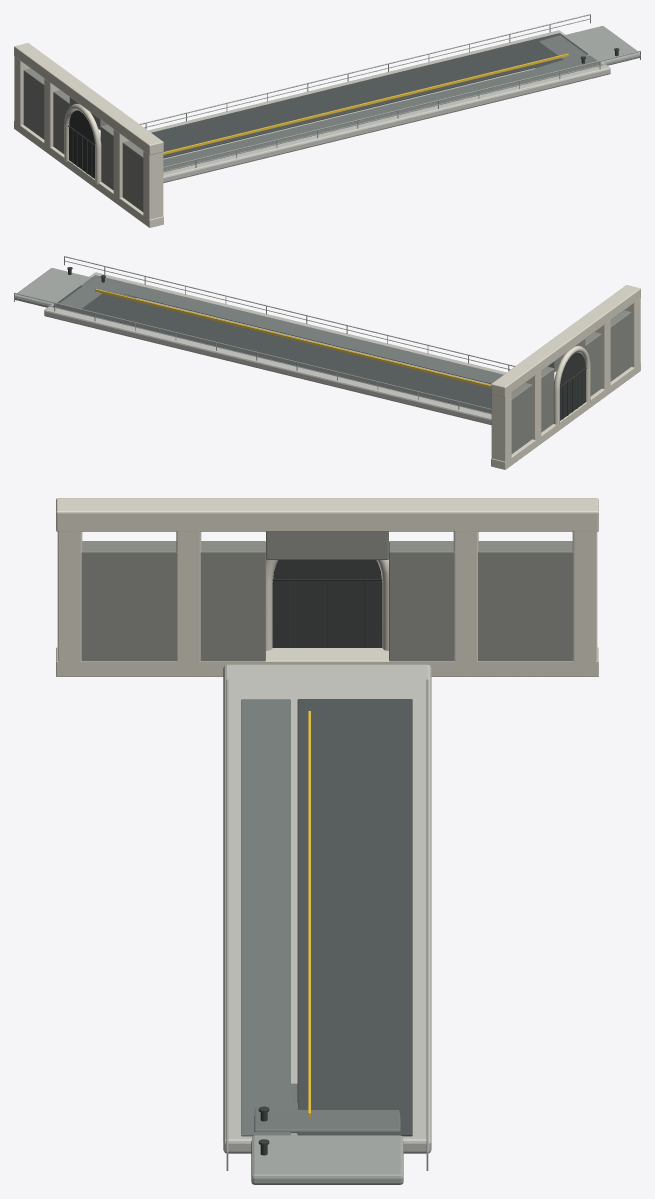
Rendered from ferry-qigan-pier-v13-lod1.glb.
The picture shows the model from 3 angles, top to bottom: view 1: azimuth 30°, elevation 25°; view 2: azimuth 150°, elevation 25°; view 3: azimuth 270°, elevation 25°; orthographic projection. The views are drawn at different scales.
Parts seen in each view (by area): view 1: Qigan vehicle lane, Qigan approach road, Qigan pedestrian lane, Qigan ivory facade parapet, Qigan gray brick right wing, Qigan gray brick left wing, Qigan floating pontoon, Qigan ivory facade base, Qigan lane divider, Qigan ivory facade pier, Qigan recessed rounded arch opening, Qigan ivory semicircular arch trim (+8 smaller); view 2: Qigan vehicle lane, Qigan approach road, Qigan pedestrian lane, Qigan ivory facade parapet, Qigan gray brick left wing, Qigan gray brick right wing, Qigan floating pontoon, Qigan ivory facade base, Qigan lane divider, Qigan ivory facade pier.003, Qigan recessed rounded arch opening, Qigan ivory semicircular arch trim (+8 smaller); view 3: Qigan vehicle lane, Qigan approach road, Qigan pedestrian lane, Qigan gray brick left wing, Qigan gray brick right wing, Qigan ivory facade parapet, Qigan recessed rounded arch opening, Qigan ivory facade base, Qigan floating pontoon, Qigan gray brick upper facade, Qigan boarding transition, Qigan ivory facade pier (+7 smaller).
Part boxes in pixels (box(x1,y1,x2,y2)): Qigan vehicle lane: box(151, 33, 588, 158); Qigan approach road: box(148, 30, 610, 183); Qigan pedestrian lane: box(163, 55, 601, 172); Qigan ivory facade parapet: box(14, 43, 163, 155); Qigan gray brick right wing: box(23, 68, 69, 154); Qigan gray brick left wing: box(100, 124, 143, 211); Qigan floating pontoon: box(563, 26, 639, 65); Qigan ivory facade base: box(14, 121, 163, 227); Qigan lane divider: box(163, 53, 568, 154); Qigan ivory facade pier: box(143, 151, 163, 219); Qigan recessed rounded arch opening: box(69, 110, 94, 178); Qigan ivory semicircular arch trim: box(64, 103, 101, 184); Qigan vehicle lane: box(53, 285, 491, 413); Qigan approach road: box(44, 272, 506, 425); Qigan pedestrian lane: box(83, 275, 503, 384); Qigan ivory facade parapet: box(491, 285, 640, 397); Qigan gray brick left wing: box(585, 310, 631, 396); Qigan gray brick right wing: box(511, 366, 554, 453); Qigan floating pontoon: box(15, 268, 91, 307); Qigan ivory facade base: box(491, 363, 640, 469); Qigan lane divider: box(95, 289, 491, 387); Qigan ivory facade pier.003: box(491, 393, 511, 461); Qigan recessed rounded arch opening: box(560, 352, 585, 420); Qigan ivory semicircular arch trim: box(553, 345, 590, 426); Qigan vehicle lane: box(297, 699, 412, 1136); Qigan approach road: box(223, 664, 431, 1153); Qigan pedestrian lane: box(241, 699, 290, 1136); Qigan gray brick left wing: box(81, 541, 265, 661); Qigan gray brick right wing: box(389, 541, 573, 661); Qigan ivory facade parapet: box(56, 498, 598, 531); Qigan recessed rounded arch opening: box(272, 560, 382, 647); Qigan ivory facade base: box(56, 647, 598, 676); Qigan floating pontoon: box(251, 1133, 403, 1184); Qigan gray brick upper facade: box(266, 531, 388, 559); Qigan boarding transition: box(254, 1083, 400, 1132); Qigan ivory facade pier: box(57, 531, 82, 661).
Bounding box in the file's own units: 63.21 × 9.22 × 27.4.
